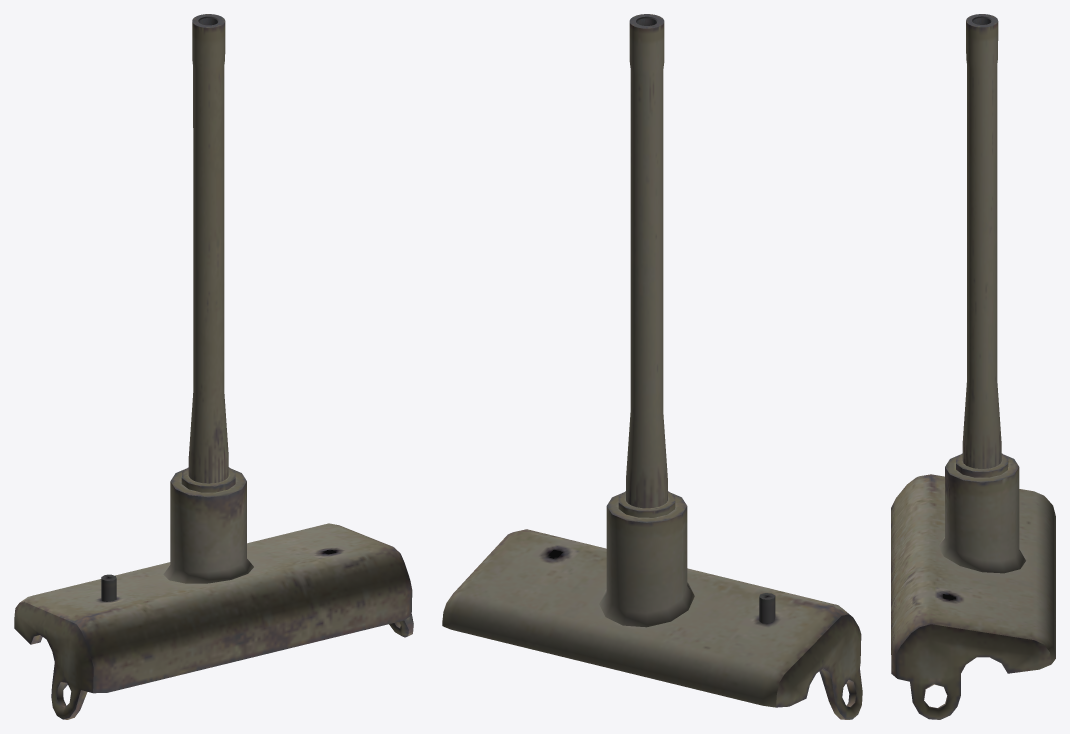
The model's file is Gun_08.glb.
3 views of the same model, side by side, from view 1: azimuth 30°, elevation 25°; view 2: azimuth 150°, elevation 25°; view 3: azimuth 270°, elevation 25° (orthographic). The views are drawn at different scales.
Parts seen in each view (by area): view 1: set_0_group_0; view 2: set_0_group_0; view 3: set_0_group_0.
Boxes of the visible parts, x1=… form: set_0_group_0: x1=14, y1=14, x2=413, y2=719; set_0_group_0: x1=442, y1=14, x2=862, y2=719; set_0_group_0: x1=891, y1=14, x2=1055, y2=719.
Bounding box in the file's own units: 1.23 × 2.14 × 0.5169.
Materials: 1 (1 with a texture image).
